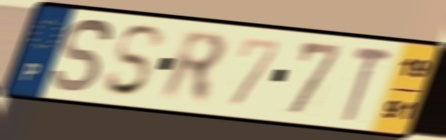7: (287, 39, 347, 117), (230, 34, 284, 110)
R: (157, 27, 231, 107)
S: (49, 16, 115, 96), (101, 23, 167, 100)
T: (341, 43, 396, 124)
